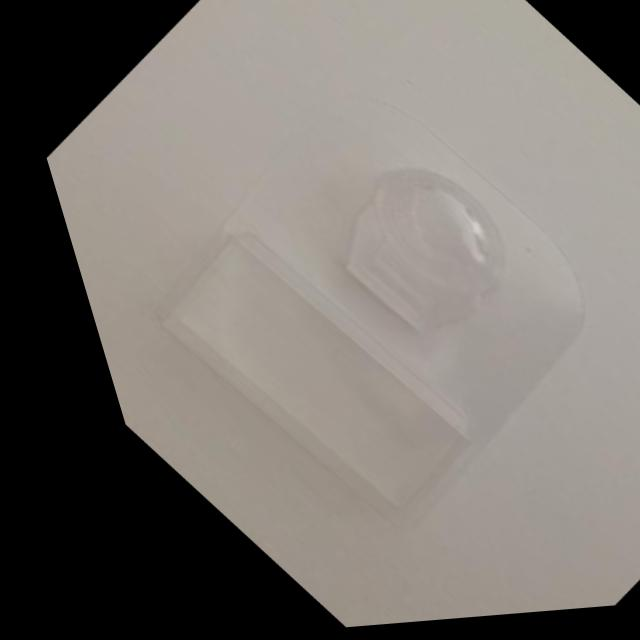plastic: (42, 36, 640, 569)
